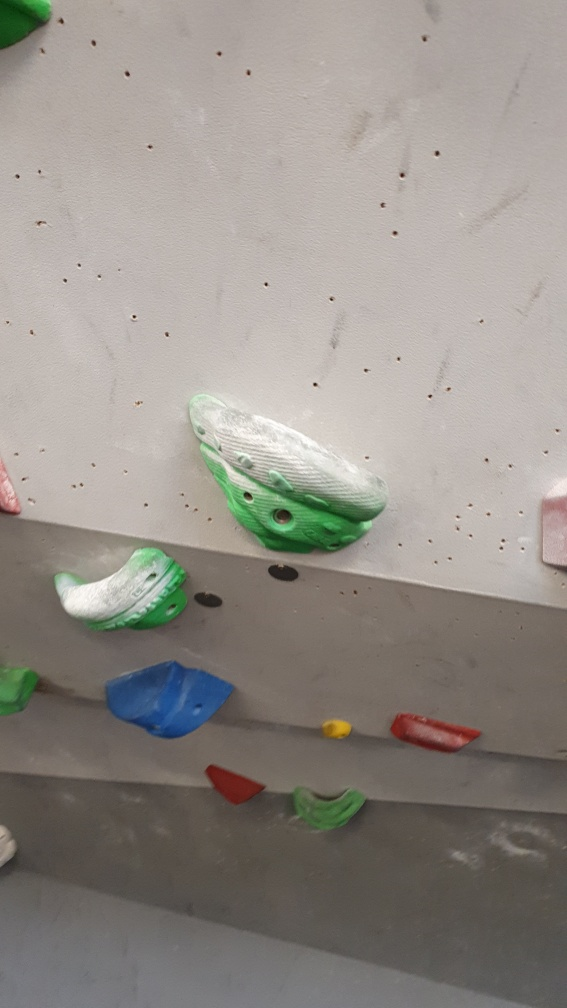Crimp: (387, 707, 485, 761)
Hand Start: (263, 560, 306, 590), (189, 585, 230, 613)
Jug: (187, 389, 389, 561), (49, 547, 195, 637), (289, 779, 369, 830)
Pinch: (103, 657, 240, 741)
